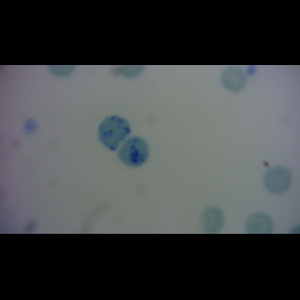aggregate reticulocyte: (97, 114, 133, 152), (115, 136, 150, 168)
erythrocyte: (262, 165, 294, 195), (198, 205, 228, 234), (219, 65, 249, 93)
